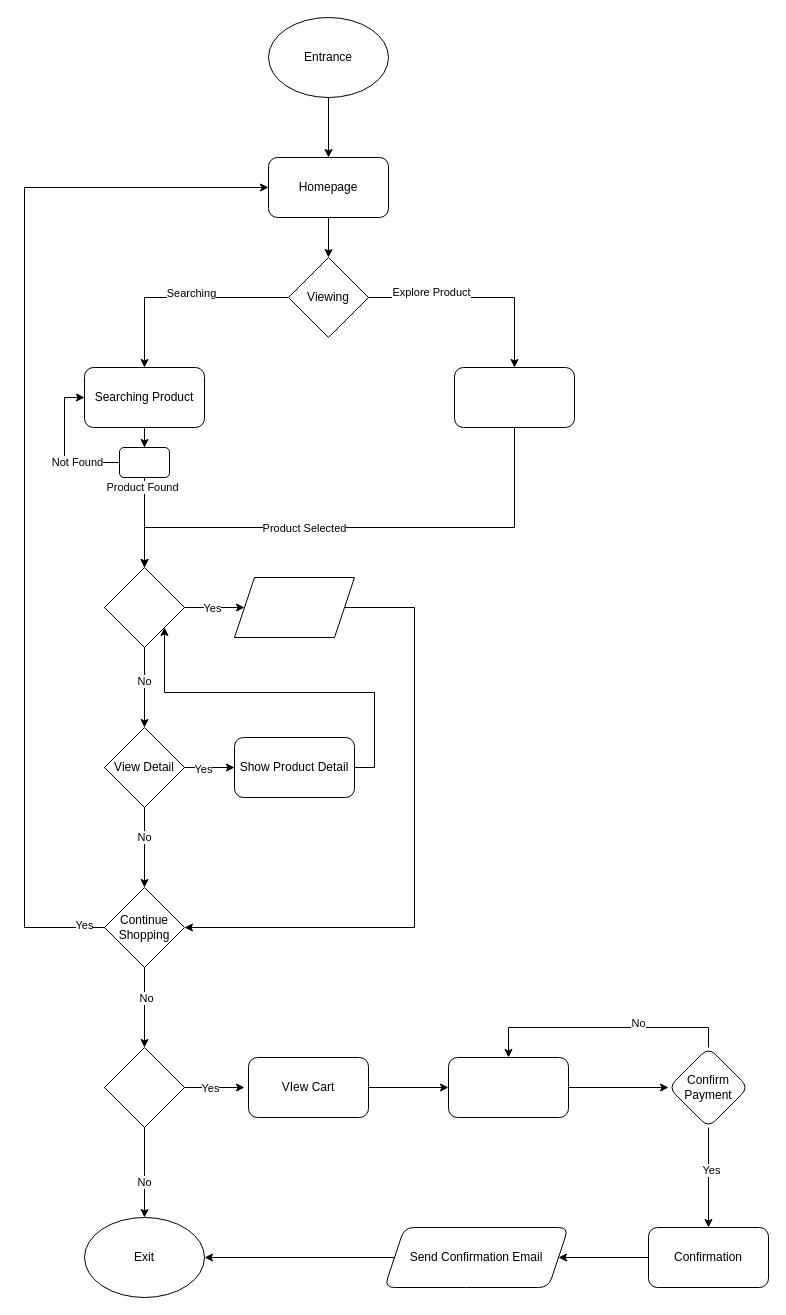
The diagram is 786 pixels wide and 1315 high, and some of its shapes have lost their labels. Here are the shapes that lost their labels. From the top down, the centre of each, then its label:
point 514,397: Stay on Homepage
point 144,462: Input
point 144,607: Add to Cart
point 294,607: Confirm to add selected product to cart
point 144,1087: Checkout
point 508,1087: View Payment
